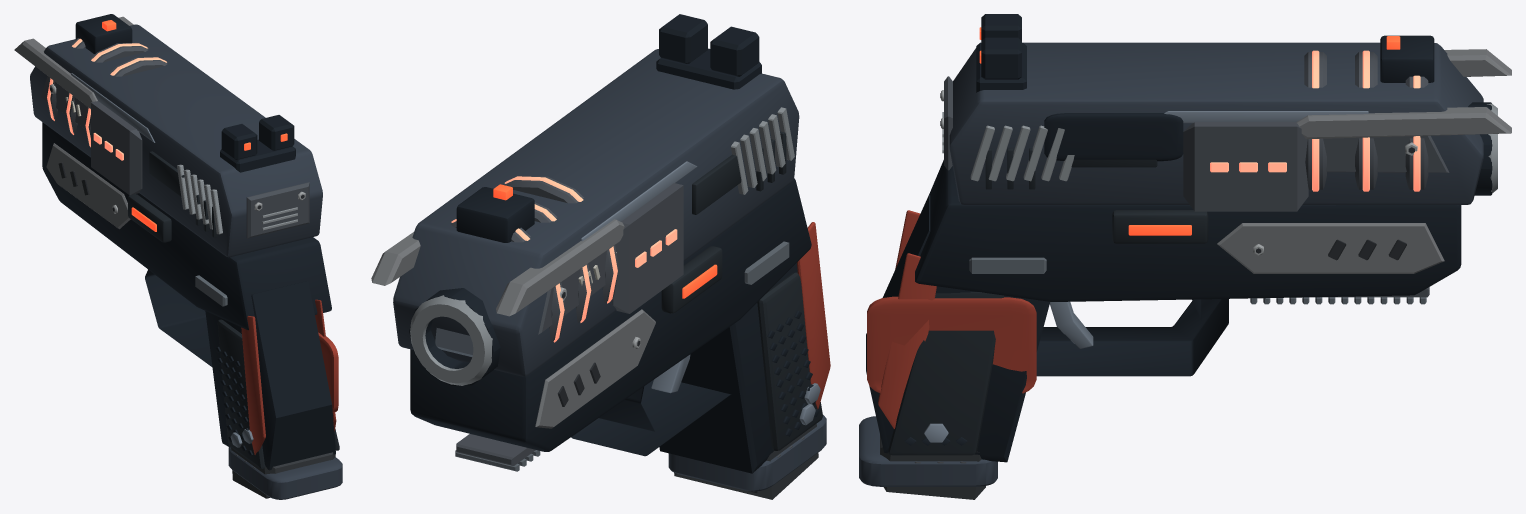
File: stun.glb
3 views of the same model, side by side, from view 1: azimuth 30°, elevation 25°; view 2: azimuth 150°, elevation 25°; view 3: azimuth 270°, elevation 25° (orthographic). The views are drawn at different scales.
Visible parts, largest first — view 1: slide, body, mag; view 2: slide, body, mag, trigger; view 3: slide, body, mag, trigger.
Part boxes in pixels (x1,y1,x2,y2): slide: (14, 14, 322, 257); body: (42, 122, 339, 470); mag: (228, 447, 342, 499); slide: (371, 14, 799, 376); body: (409, 178, 830, 473); mag: (668, 415, 826, 499); trigger: (651, 354, 690, 393); slide: (940, 14, 1511, 211); body: (866, 102, 1497, 462); mag: (859, 416, 997, 499); trigger: (1050, 301, 1093, 348).
Size of the model in its own units: 0.136 by 0.3884 by 0.5156.
